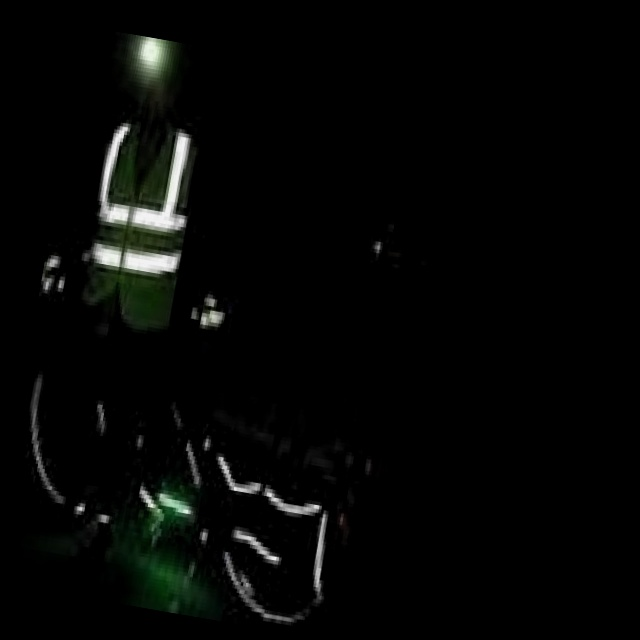Con_Chaleco: (75, 117, 202, 332)
